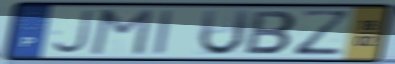B: (242, 9, 299, 57)
I: (151, 8, 176, 57)
J: (49, 8, 95, 56)
M: (87, 8, 156, 57)
U: (196, 8, 252, 58)
Z: (292, 8, 355, 58)
